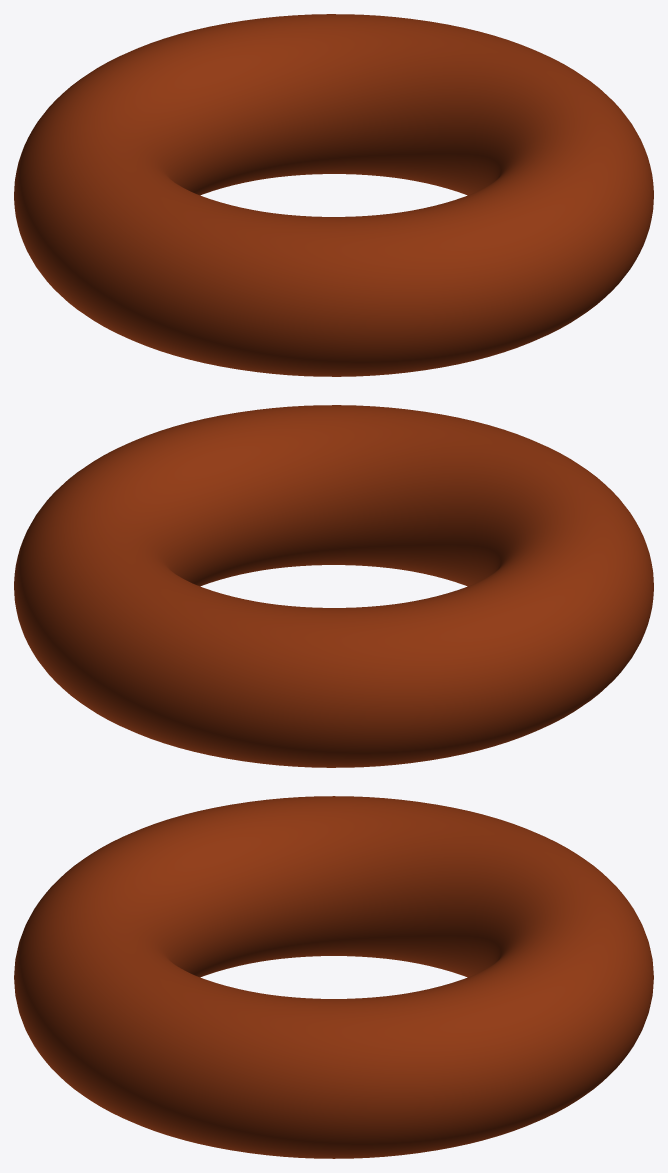
File: cena-luz-torus.obj
3 views of the same model, one above another, from view 1: azimuth 30°, elevation 25°; view 2: azimuth 150°, elevation 25°; view 3: azimuth 270°, elevation 25° (orthographic).
Visible parts, largest first — view 1: torus; view 2: torus; view 3: torus.
Boxes of the visible parts, x1,y1,x2,y2 form: torus: (14,14,653,376); torus: (14,405,653,767); torus: (14,796,653,1158).
Size of the model in its own units: 4 by 1 by 4.
